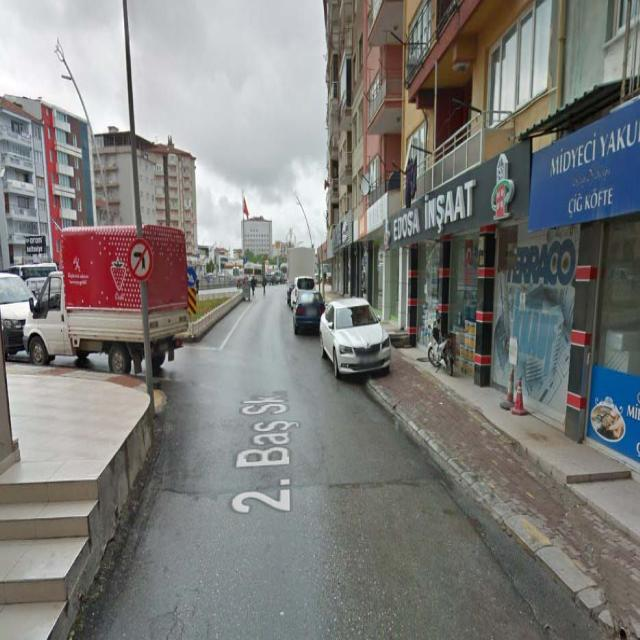soladonulmez: (128, 238, 151, 282)
